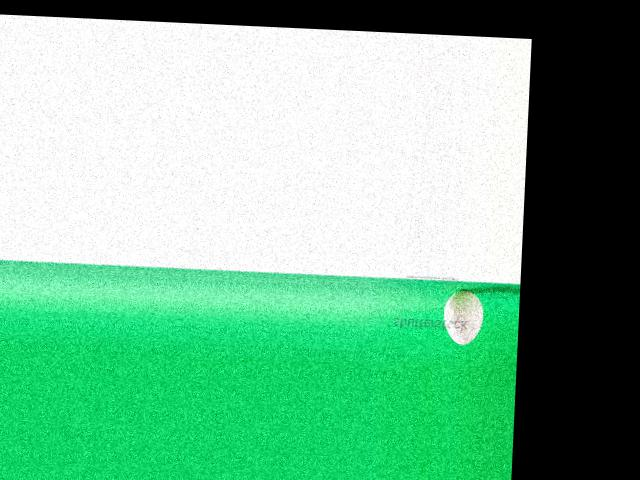egg: (443, 288, 484, 345)
